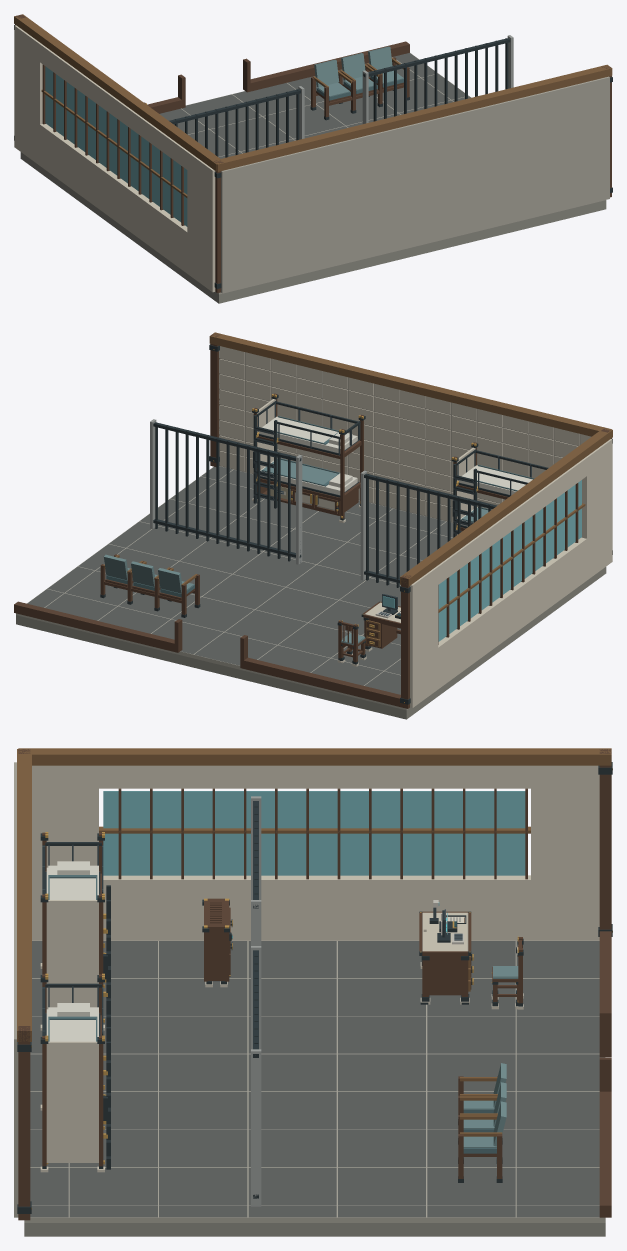
3 views of the same model, one above another, from view 1: azimuth 30°, elevation 25°; view 2: azimuth 150°, elevation 25°; view 3: azimuth 270°, elevation 25° (orthographic). The views are drawn at different scales.
Visible parts, largest first — view 1: 真实窗洞、木梁与切角房间墙, 分层实心台基与独立石铺面, 静态金属隔栏与开放中央通口, 三席连座与连续倾斜靠背; view 2: 真实窗洞、木梁与切角房间墙, 分层实心台基与独立石铺面, 静态金属隔栏与开放中央通口, 监所床位/储物组合 (×2), 三席连座与连续倾斜靠背, 讯问记录台, 餐椅; view 3: 分层实心台基与独立石铺面, 真实窗洞、木梁与切角房间墙, 监所床位/储物组合 (×2), 讯问记录台, 静态金属隔栏与开放中央通口, 三席连座与连续倾斜靠背, 玄关鞋柜, 餐椅.
Part boxes in pixels (x1,y1,x2,y2): 真实窗洞、木梁与切角房间墙: [14, 14, 612, 293]; 分层实心台基与独立石铺面: [20, 53, 606, 303]; 静态金属隔栏与开放中央通口: [169, 35, 513, 157]; 三席连座与连续倾斜靠背: [310, 46, 409, 120]; 真实窗洞、木梁与切角房间墙: [14, 332, 612, 708]; 分层实心台基与独立石铺面: [16, 466, 606, 719]; 静态金属隔栏与开放中央通口: [150, 419, 496, 587]; 监所床位/储物组合 (×2): [252, 393, 548, 537]; 三席连座与连续倾斜靠背: [100, 554, 200, 617]; 讯问记录台: [361, 594, 400, 651]; 餐椅: [337, 620, 366, 666]; 分层实心台基与独立石铺面: [24, 940, 605, 1236]; 真实窗洞、木梁与切角房间墙: [14, 748, 612, 1220]; 监所床位/储物组合 (×2): [40, 832, 110, 1172]; 讯问记录台: [419, 900, 473, 1004]; 静态金属隔栏与开放中央通口: [251, 796, 261, 1206]; 三席连座与连续倾斜靠背: [458, 1063, 506, 1182]; 玄关鞋柜: [202, 898, 232, 987]; 餐椅: [491, 936, 523, 1009].
Size of the model in its own units: 9.04 by 3.08 by 8.04.
24 materials, 24 textured.
